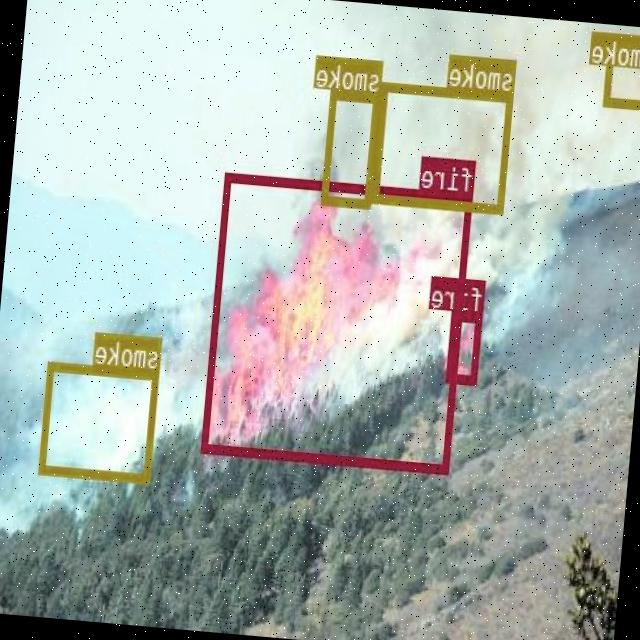fire: (203, 170, 474, 472), (447, 311, 484, 384)
smoke: (374, 80, 514, 211), (40, 359, 161, 480), (322, 87, 382, 207), (604, 31, 640, 107)
